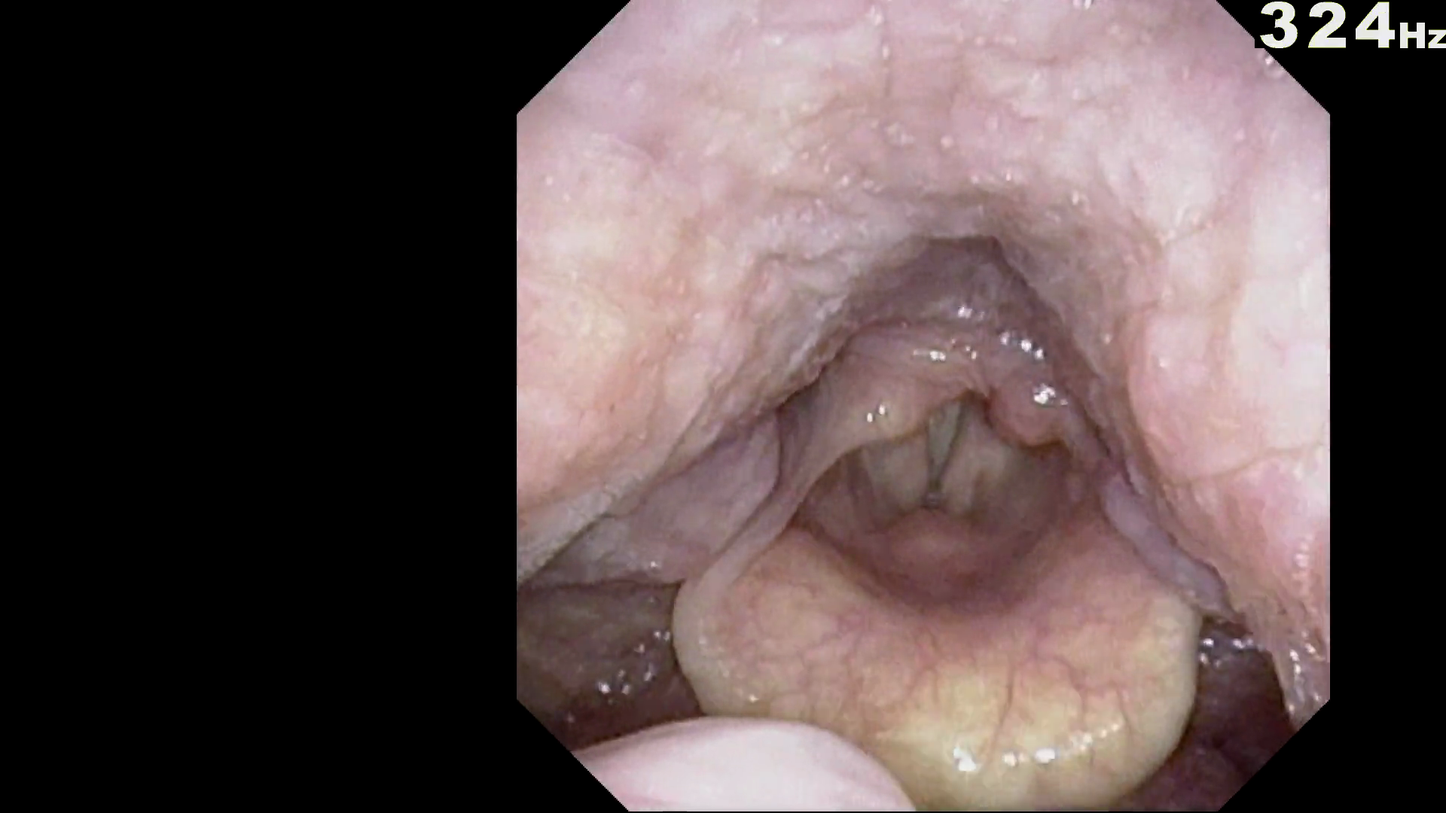epiglottis: (678, 581, 1212, 778)
trachea: (881, 390, 1032, 559)
